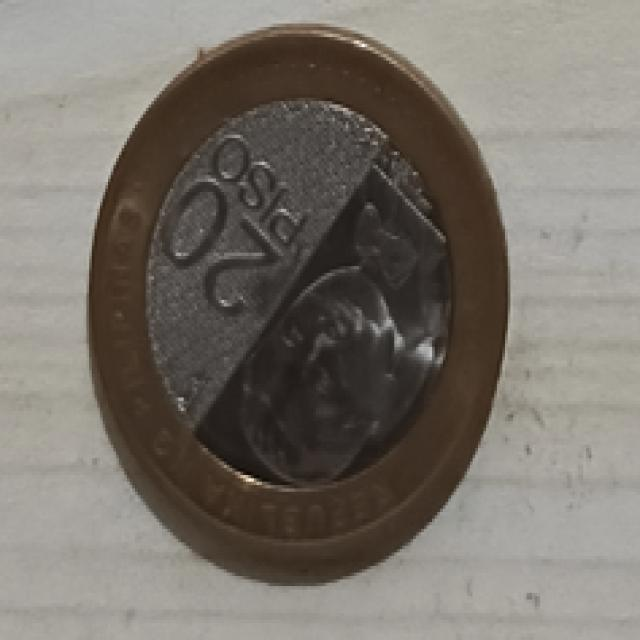20_peso: (89, 27, 505, 579)
